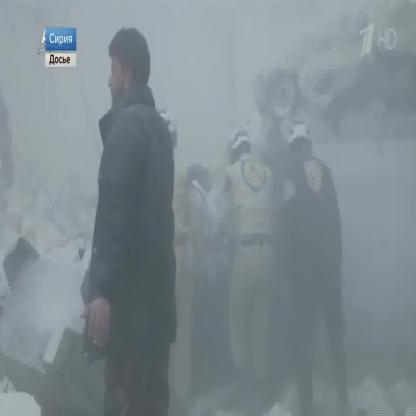helmet: (226, 127, 251, 156), (285, 122, 312, 144)
